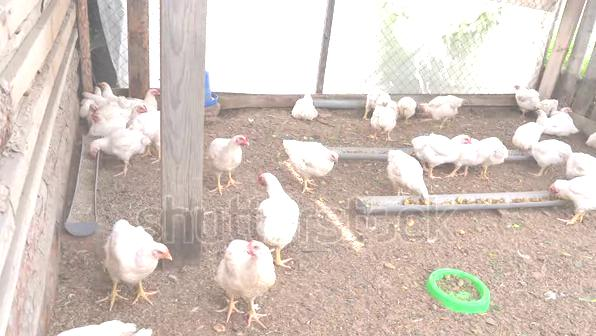Pollos: (103, 217, 171, 284), (257, 167, 299, 248), (219, 239, 272, 303), (385, 148, 431, 201), (283, 138, 339, 175), (88, 129, 150, 159), (548, 176, 596, 213), (525, 137, 575, 170), (208, 134, 249, 172), (416, 133, 475, 158), (422, 93, 466, 122), (536, 109, 581, 136), (289, 89, 321, 120), (90, 107, 131, 131), (507, 82, 541, 109), (371, 100, 396, 132), (131, 106, 160, 131)
